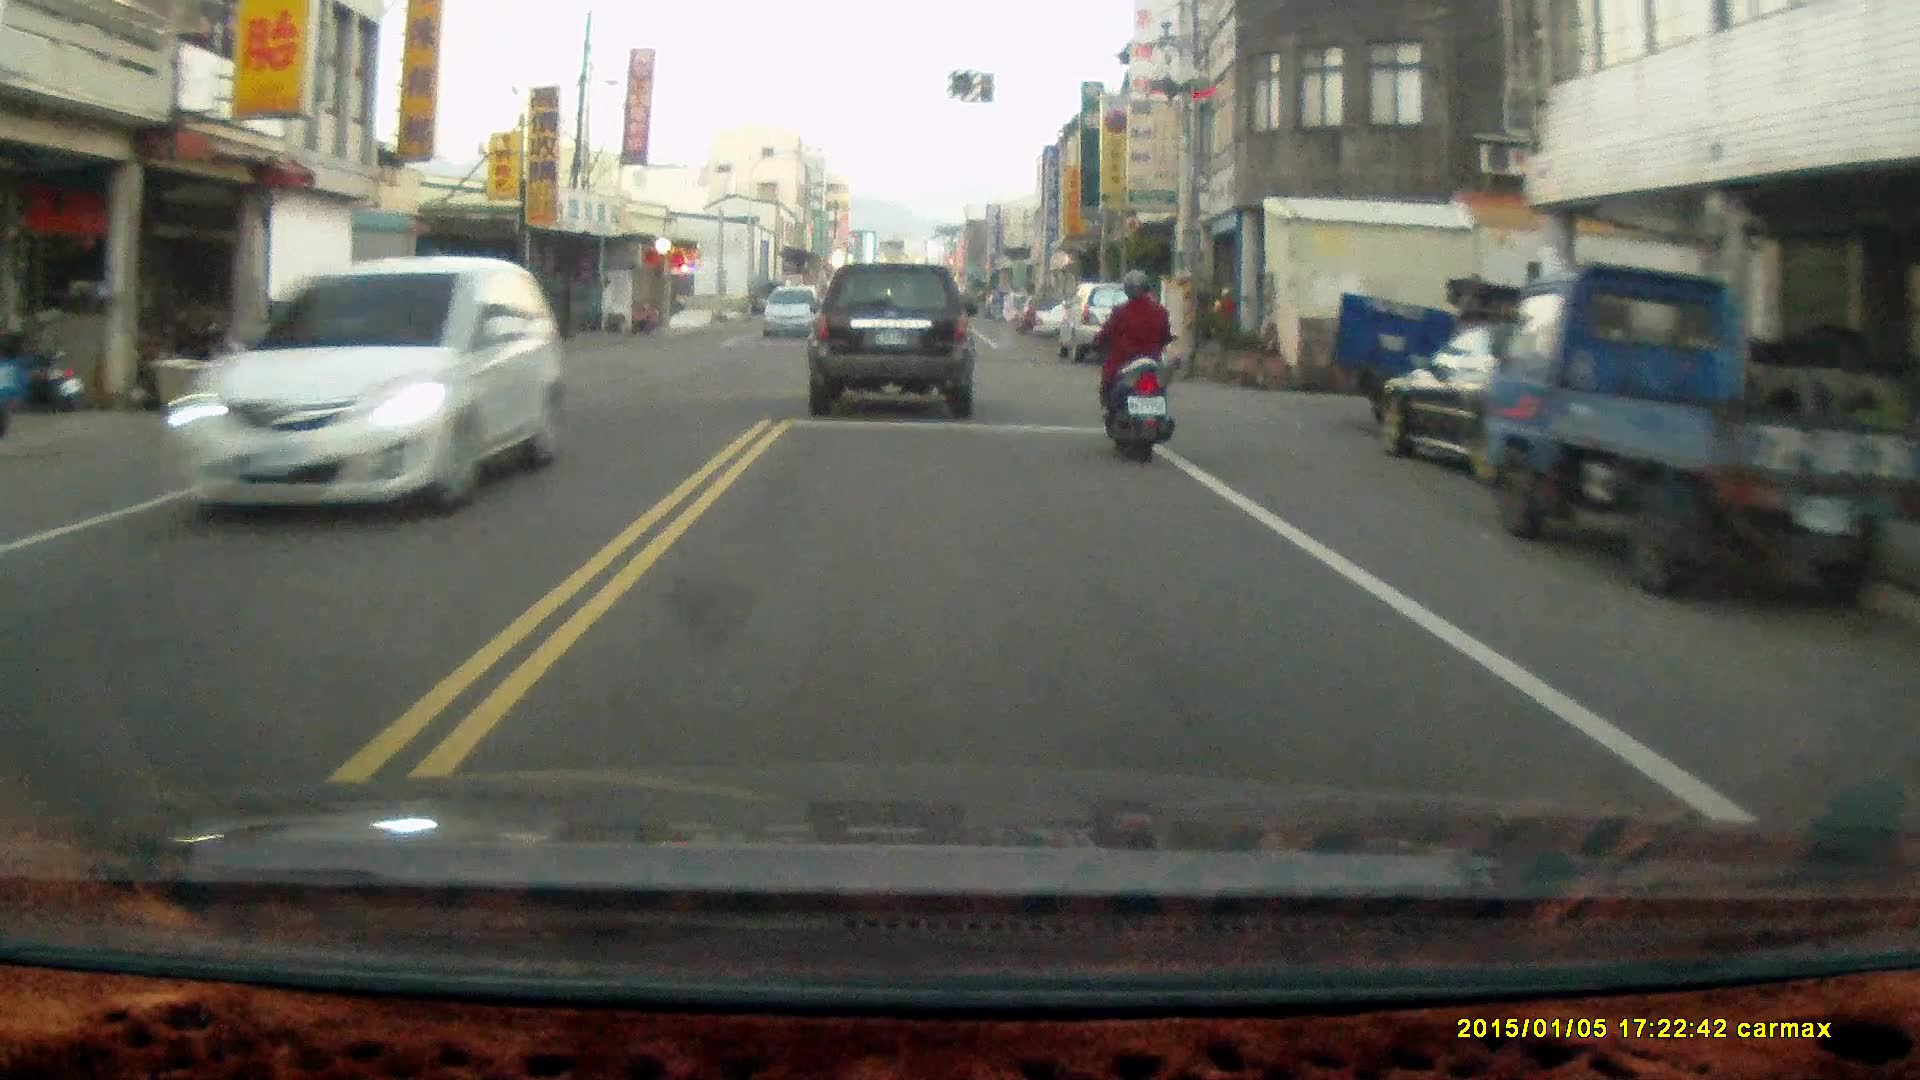rider: (1092, 267, 1173, 464)
vehicle: (1466, 254, 1920, 606), (181, 254, 565, 513), (1369, 321, 1707, 490), (1330, 279, 1591, 445), (806, 260, 981, 425), (1058, 282, 1158, 366), (763, 286, 824, 340)
